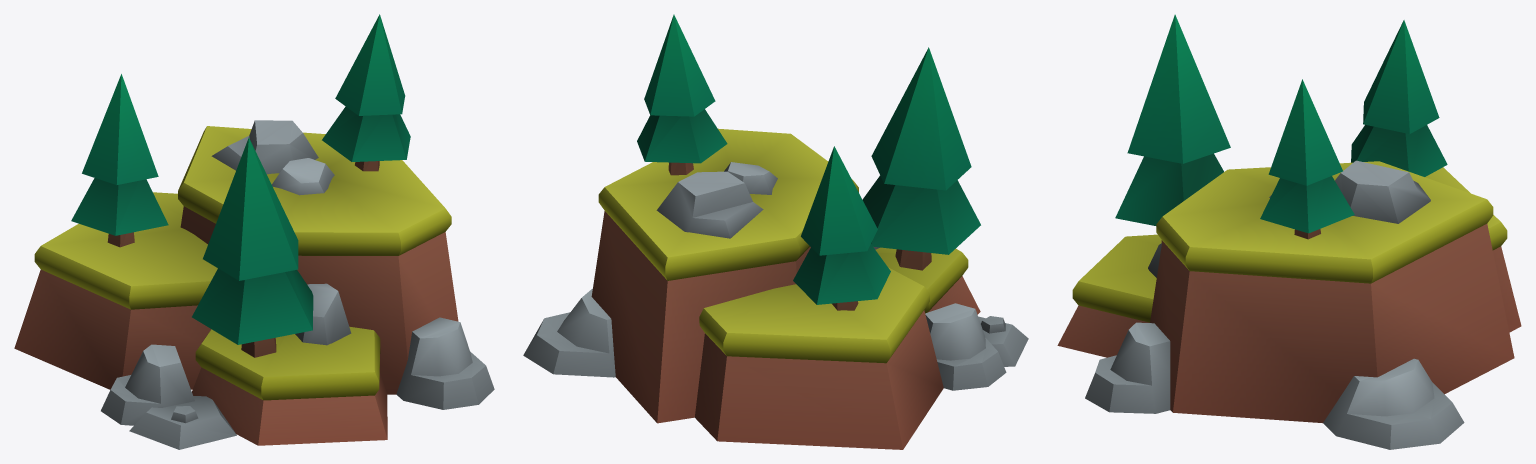
The model's file is hills.glb.
3 renders of one model, left to right at view 1: azimuth 30°, elevation 25°; view 2: azimuth 150°, elevation 25°; view 3: azimuth 270°, elevation 25°, orthographic. The views are drawn at different scales.
Visible parts, largest first — view 1: hills_A_trees; view 2: hills_A_trees; view 3: hills_A_trees.
Boxes of the visible parts, left/top/right/bottom form: hills_A_trees: left=14, top=14, right=494, bottom=449; hills_A_trees: left=523, top=14, right=1028, bottom=449; hills_A_trees: left=1057, top=14, right=1521, bottom=449.
Bounding box in the file's own units: 1.76 × 1.33 × 1.74.
1 material, 1 textured.
